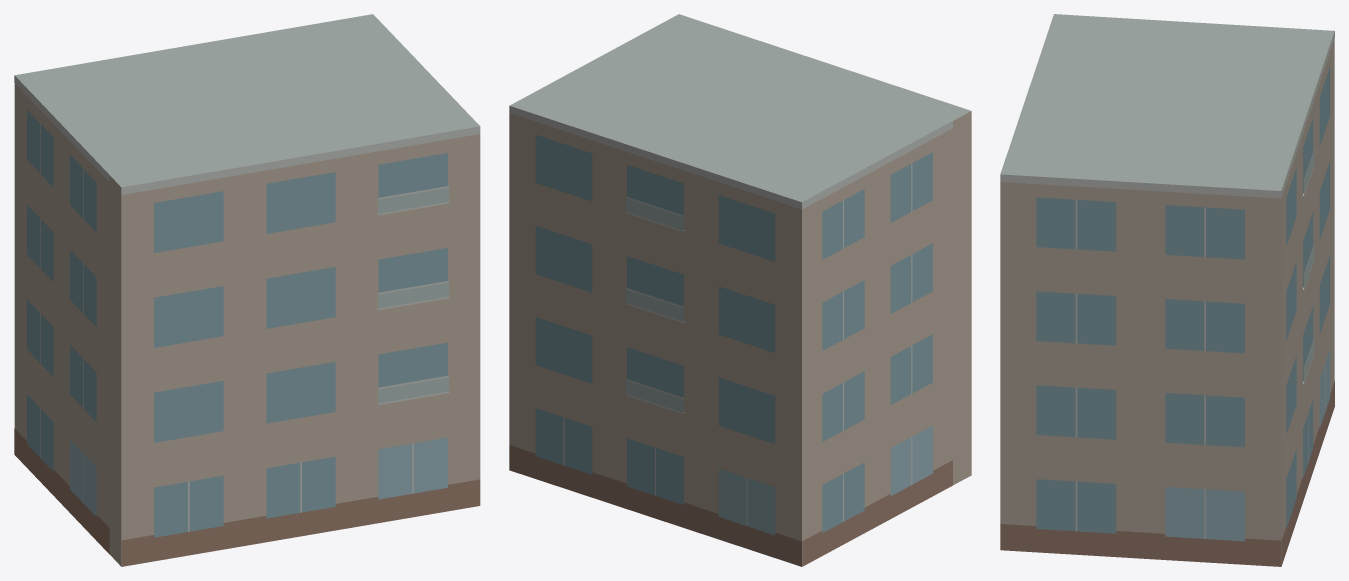
Rendered from residential-727a0326-8855-4a28-992d-89a6b0dd5738.glb.
The picture shows the model from 3 angles, left to right: view 1: azimuth 30°, elevation 25°; view 2: azimuth 150°, elevation 25°; view 3: azimuth 270°, elevation 25°; orthographic projection. The views are drawn at different scales.
Visible parts, largest first — view 1: residential-727a0326-8855-4a28-992d-89a6b0dd5738.tmp; view 2: residential-727a0326-8855-4a28-992d-89a6b0dd5738.tmp; view 3: residential-727a0326-8855-4a28-992d-89a6b0dd5738.tmp.
Part boxes in pixels (x1,y1,x2,y2): residential-727a0326-8855-4a28-992d-89a6b0dd5738.tmp: (14, 14, 480, 566); residential-727a0326-8855-4a28-992d-89a6b0dd5738.tmp: (509, 14, 971, 566); residential-727a0326-8855-4a28-992d-89a6b0dd5738.tmp: (1000, 14, 1334, 566).
Size of the model in its own units: 12.34 by 12.2 by 9.85.
